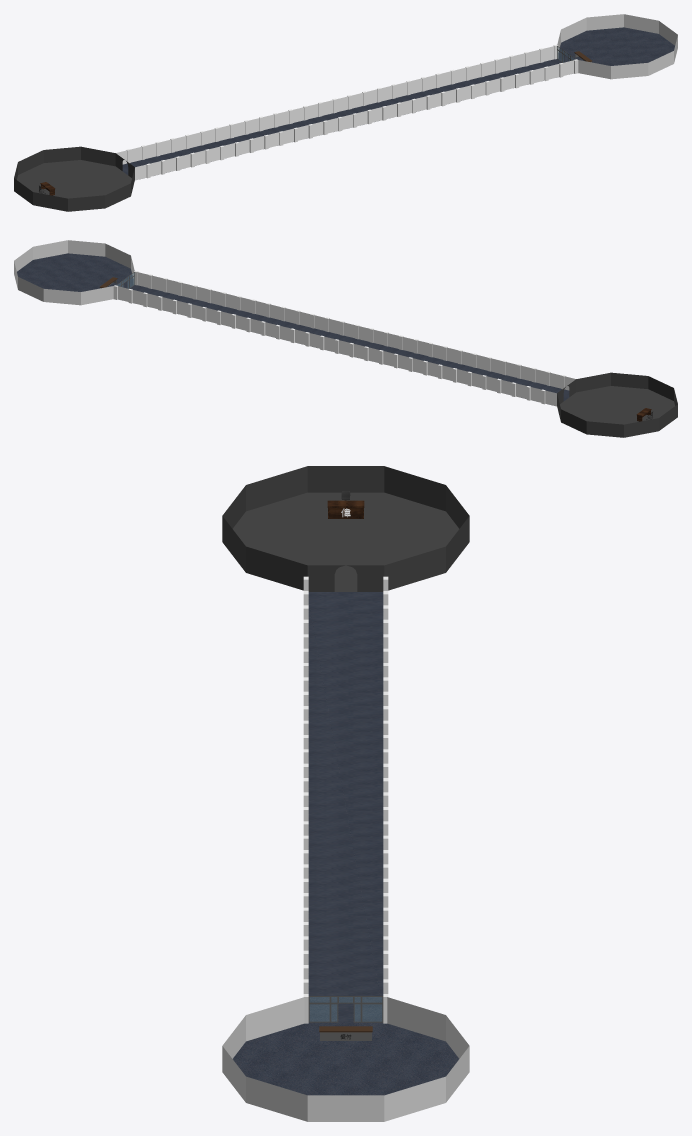
Rendered from stage.fbx.
The picture shows the model from 3 angles, top to bottom: view 1: azimuth 30°, elevation 25°; view 2: azimuth 150°, elevation 25°; view 3: azimuth 270°, elevation 25°; orthographic projection. The views are drawn at different scales.
Visible parts, largest first — view 1: Plane, Plane.002, Plane.007, Plane.004, Plane.001; view 2: Plane, Plane.002, Plane.007, Plane.004, Plane.001; view 3: Plane.001, Plane.002, Plane.007, Plane.004, Plane, Plane.005, Plane.009.
Part boxes in pixels (<box>): Plane: <box>116,44,578,180</box>; Plane.002: <box>14,146,134,211</box>; Plane.007: <box>558,27,674,65</box>; Plane.004: <box>557,14,677,79</box>; Plane.001: <box>122,59,561,174</box>; Plane: <box>113,270,575,406</box>; Plane.002: <box>557,372,677,437</box>; Plane.007: <box>17,253,133,291</box>; Plane.004: <box>14,240,134,305</box>; Plane.001: <box>130,285,569,400</box>; Plane.001: <box>308,592,383,1022</box>; Plane.002: <box>222,466,469,591</box>; Plane.007: <box>233,1022,458,1095</box>; Plane.004: <box>222,997,469,1121</box>; Plane: <box>303,576,388,1023</box>; Plane.005: <box>307,565,384,591</box>; Plane.009: <box>310,997,381,1021</box>.
Bounding box in the file's own units: 143 × 2.81 × 23.8.
Materials: 12 (2 with a texture image).
